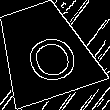O_N: (11, 20, 78, 83)
